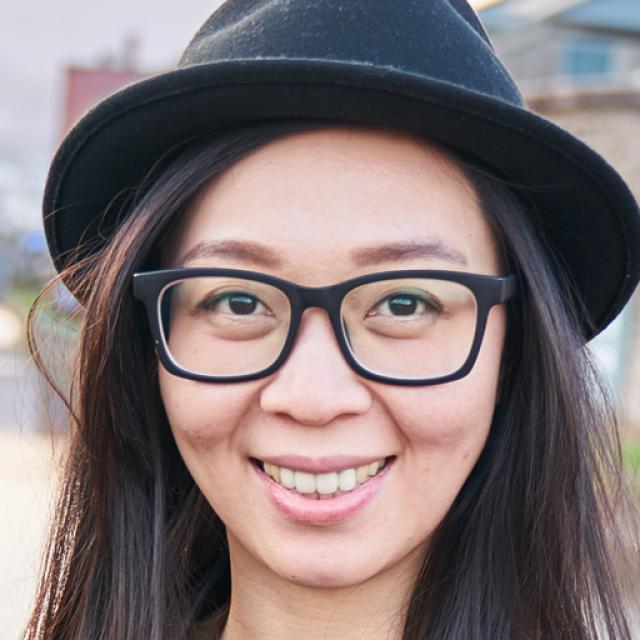happy: (157, 145, 503, 588)
